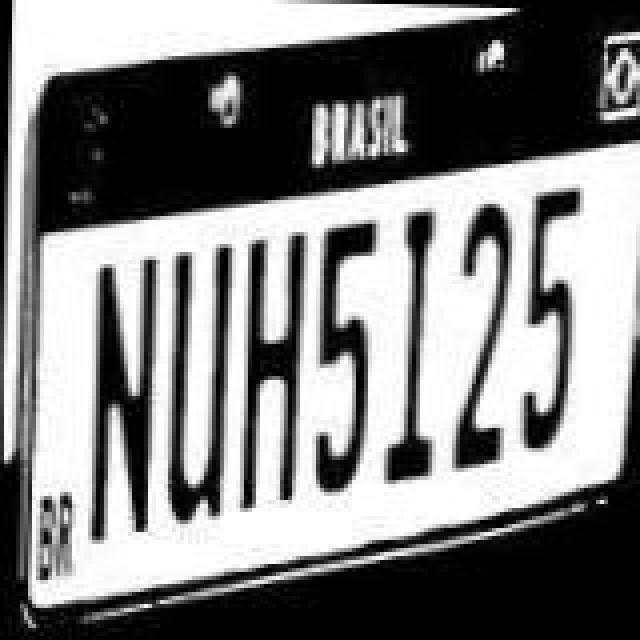2: (442, 178, 522, 466)
5: (308, 196, 384, 484), (518, 168, 590, 440)
H: (230, 212, 314, 504)
I: (376, 186, 452, 478)
N: (82, 242, 166, 554)
U: (154, 224, 238, 528)
